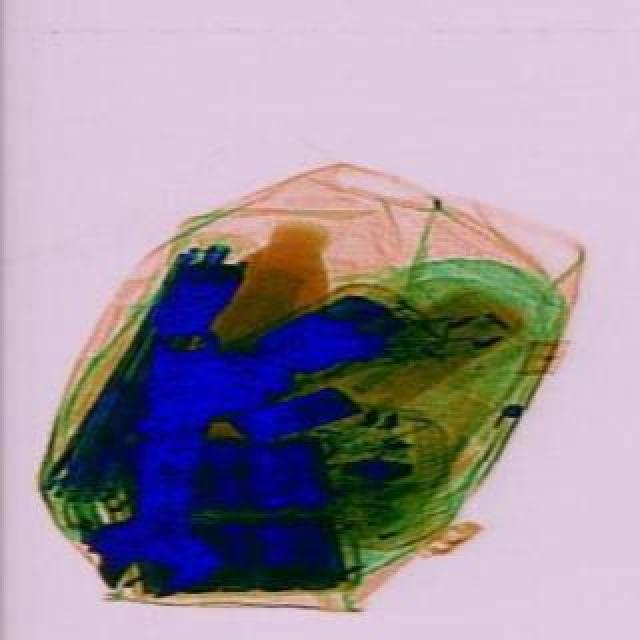scissors: (76, 316, 256, 608)
